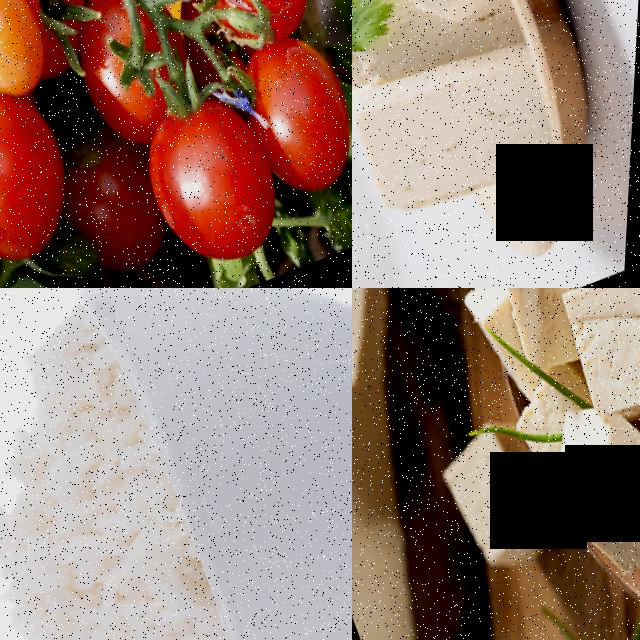tofu: (352, 22, 572, 231), (437, 427, 583, 589), (535, 406, 640, 595), (549, 288, 640, 426), (379, 0, 511, 39), (483, 288, 580, 309)
tomato: (122, 74, 308, 281), (224, 19, 352, 205), (0, 72, 101, 282), (157, 0, 343, 63), (0, 0, 67, 108)
white rice: (0, 313, 282, 640)
